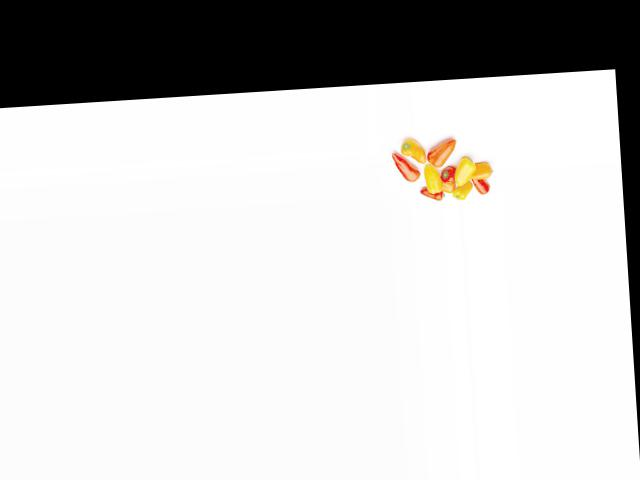bell_pepper: (417, 188, 446, 203)
